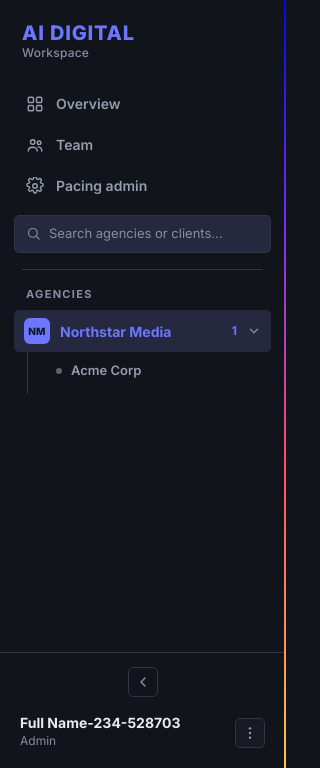
Scenario: Sidebar › should collapse the open agency's client list when its row is clicked again
Expected: the text "Acme Corp" is shown, x1=71 y1=362 x2=141 y2=378
// the already-open agency row is clicked again
Click the link "NM Northstar Media 1" at (142, 331), box x1=14 y1=310 x2=271 y2=352
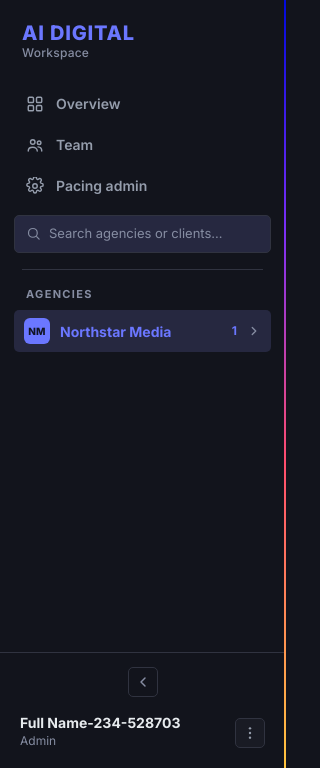
Expected: the link "Acme Corp" is gone
